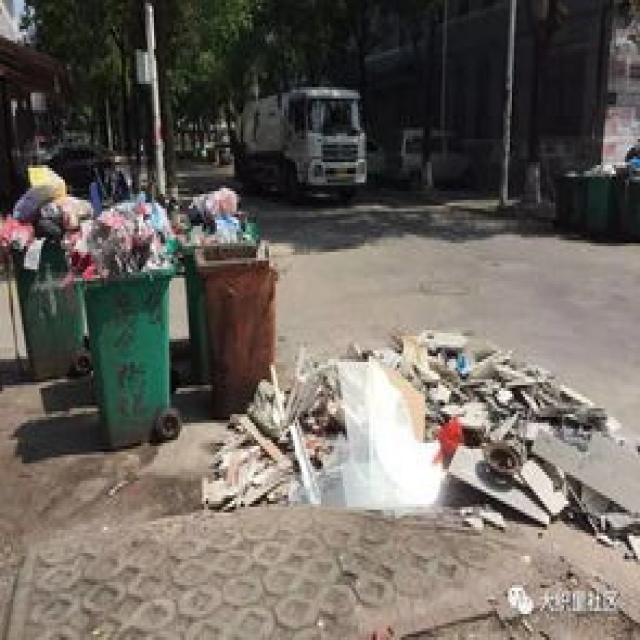garbage: (200, 327, 638, 533)
overflow: (80, 191, 172, 446), (180, 188, 278, 417), (11, 162, 82, 377)
